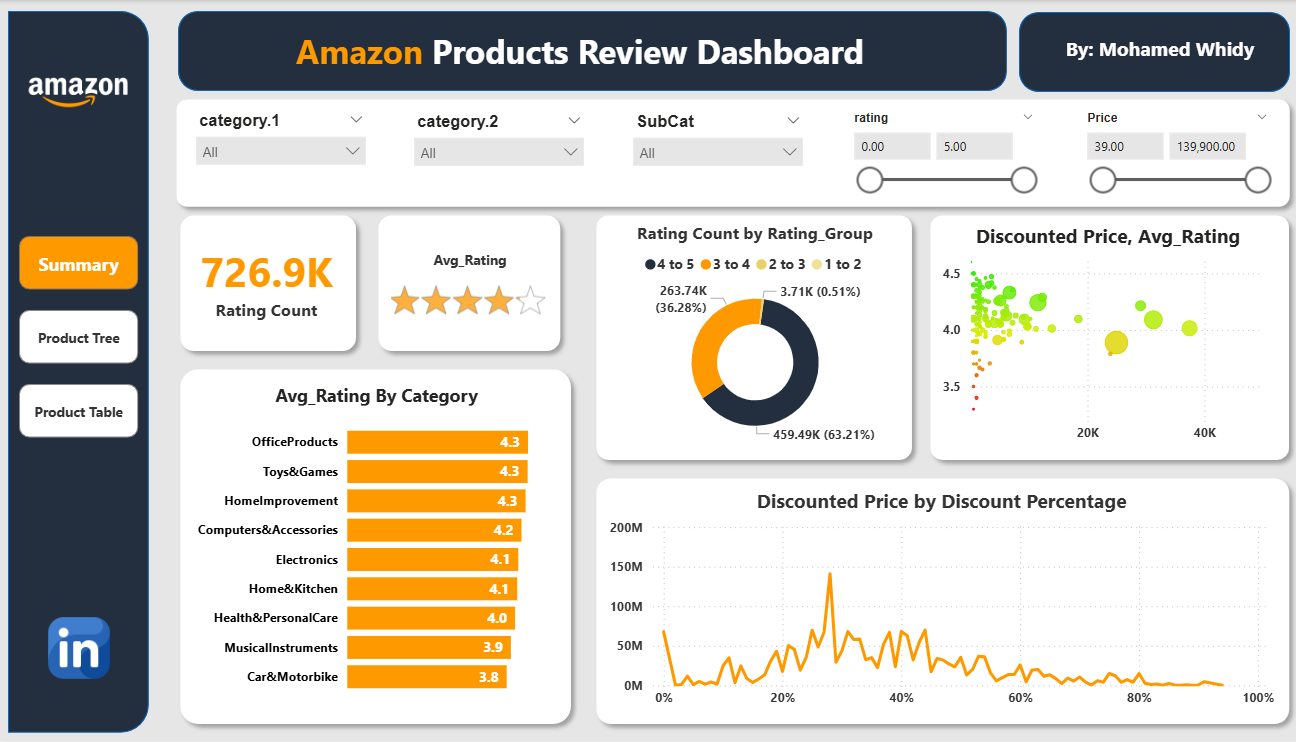

This screenshot's page, from the dashboard's own definition file:
{"tool":"powerbi","page":{"name":"Summary","canvas":[1280,720],"ordinal":0},"visuals":[{"type":"shape","box":[13,11,137,702],"z":0},{"type":"shape","box":[178,10.7,806.3,77.8],"z":1000},{"type":"shape","box":[996,11.7,263.6,77.8],"z":2000},{"type":"textbox","box":[259.7,22.4,618.6,54.5],"z":3000},{"type":"shape","box":[167.3,87.5,1101,122.6],"z":4000},{"type":"shape","box":[171,200,189,150],"z":4000,"group":"g8"},{"type":"image","box":[13,39,137,98],"z":5000},{"type":"shape","box":[576,200,325,256],"z":5000,"group":"g4"},{"type":"textbox","box":[1016.4,29.2,233.4,41.8],"z":6000},{"type":"shape","box":[901,200,367,256],"z":6000,"group":"g5"},{"type":"group","id":"g1","title":"Group 1","box":[363.8,200.4,195,150],"z":7000},{"type":"shape","box":[576,456,692,257],"z":7000,"group":"g6"},{"type":"group","id":"g2","title":"Group 2","box":[171,200,189,150],"z":8000},{"type":"shape","box":[171,350,398,363],"z":8000,"group":"g3"},{"type":"shape","box":[363.8,200.4,195,150],"z":9000,"group":"g9"},{"type":"group","id":"g3","title":"Group 3","box":[171,350,398,363],"z":9000},{"type":"group","id":"g4","title":"Group 4","box":[576,200,325,256],"z":10000},{"type":"group","id":"g5","title":"Group 5","box":[901,200,367,256],"z":11000},{"type":"group","id":"g6","title":"Group 6","box":[576,456,692,257],"z":12000},{"type":"slicer","fields":{"Values":["AmazonData.category.1"]},"box":[185.8,103.1,184.8,91.4],"z":13000,"group":"g7"},{"type":"image","box":[46,595,72,70],"z":13000},{"type":"slicer","fields":{"Values":["AmazonData.category.2"]},"box":[398.1,104.1,184.8,90.5],"z":14000,"group":"g7"},{"type":"card","fields":{"Values":["CountNonNull(AmazonData.rating_count)"]},"box":[189.5,229.2,148.8,87.5],"z":14000,"group":"g8"},{"type":"pageNavigator","box":[23.3,229.5,116.7,196.5],"z":14000},{"type":"group","id":"g7","title":"Group 9","box":[185.8,103.1,1064.1,91.4],"z":15000},{"type":"slicer","fields":{"Values":["AmazonData.SubCat"]},"box":[610.4,104.1,184.8,90.5],"z":15000,"group":"g7"},{"type":"slicer","fields":{"Values":["AmazonData.rating"]},"box":[822.6,103.1,199.4,91.4],"z":16000,"group":"g7"},{"type":"slicer","fields":{"Values":["AmazonData.actual_price.1"]},"box":[1049.5,103.1,200.4,91.4],"z":17000,"group":"g7"},{"type":"PBI_CV_9053509D_D461_463A_B485_CE9F6AB0F13D","fields":{"value":["AmazonData.Avg_Rating"]},"box":[380.6,243.8,163.4,78.8],"z":19000,"group":"g9"},{"type":"barChart","title":"Avg_Rating By Category","fields":{"Y":["AmazonData.Avg_Rating"],"Category":["AmazonData.category.1","AmazonData.category.2","AmazonData.SubCat"]},"box":[190,371,361,314.7],"z":20000,"group":"g3"},{"type":"group","id":"g8","title":"Group 7","box":[171,200,189,150],"z":20001,"group":"g2"},{"type":"group","id":"g9","title":"Group 8","box":[363.8,200.4,195,150],"z":20001,"group":"g1"},{"type":"donutChart","title":"Rating Count by Rating_Group","fields":{"Category":["AmazonData.Rating_Group"],"Y":["CountNonNull(AmazonData.Rating_Group)"]},"box":[593,215.9,294,223.1],"z":21000,"group":"g4"},{"type":"scatterChart","title":"Discounted Price, Avg_Rating","fields":{"Category":["AmazonData.Product_Name"],"Y":["AmazonData.Avg_Rating"],"X":["CountNonNull(AmazonData.discounted_price.1)"],"Size":["Sum(AmazonData.rating_count)"]},"box":[917,215.9,333,223.1],"z":22000,"group":"g5"},{"type":"lineChart","title":" Discounted Price by Discount Percentage","fields":{"Category":["AmazonData.discount_percentage"],"Y":["Sum(AmazonData.discounted_price.1)"]},"box":[593,473.5,657,222.9],"z":23000,"group":"g6"}]}

Visuals, with their boxes in screenshot pixels (x1, y1, x2, y2), scaled from the page's 1280x720 canvas onto the 1296x742 screenshot:
shape: bbox(13, 11, 152, 735)
shape: bbox(180, 11, 997, 91)
shape: bbox(1008, 12, 1275, 92)
textbox: bbox(263, 23, 889, 79)
shape: bbox(169, 90, 1284, 217)
shape: bbox(173, 206, 364, 361)
image: bbox(13, 40, 152, 141)
shape: bbox(583, 206, 912, 470)
textbox: bbox(1029, 30, 1265, 73)
shape: bbox(912, 206, 1284, 470)
"Group 1" group: bbox(368, 207, 566, 361)
shape: bbox(583, 470, 1284, 735)
"Group 2" group: bbox(173, 206, 364, 361)
shape: bbox(173, 361, 576, 735)
shape: bbox(368, 207, 566, 361)
"Group 3" group: bbox(173, 361, 576, 735)
"Group 4" group: bbox(583, 206, 912, 470)
"Group 5" group: bbox(912, 206, 1284, 470)
"Group 6" group: bbox(583, 470, 1284, 735)
slicer - AmazonData.category.1: bbox(188, 106, 375, 200)
image: bbox(47, 613, 119, 685)
slicer - AmazonData.category.2: bbox(403, 107, 590, 201)
card - CountNonNull(AmazonData.rating_count): bbox(192, 236, 343, 326)
pageNavigator: bbox(24, 237, 142, 439)
"Group 9" group: bbox(188, 106, 1266, 200)
slicer - AmazonData.SubCat: bbox(618, 107, 805, 201)
slicer - AmazonData.rating: bbox(833, 106, 1035, 200)
slicer - AmazonData.actual_price.1: bbox(1063, 106, 1266, 200)
PBI_CV_9053509D_D461_463A_B485_CE9F6AB0F13D - AmazonData.Avg_Rating: bbox(385, 251, 551, 332)
"Avg_Rating By Category" barChart: bbox(192, 382, 558, 707)
"Group 7" group: bbox(173, 206, 364, 361)
"Group 8" group: bbox(368, 207, 566, 361)
"Rating Count by Rating_Group" donutChart: bbox(600, 222, 898, 452)
"Discounted Price, Avg_Rating" scatterChart: bbox(928, 222, 1266, 452)
" Discounted Price by Discount Percentage" lineChart: bbox(600, 488, 1266, 718)
